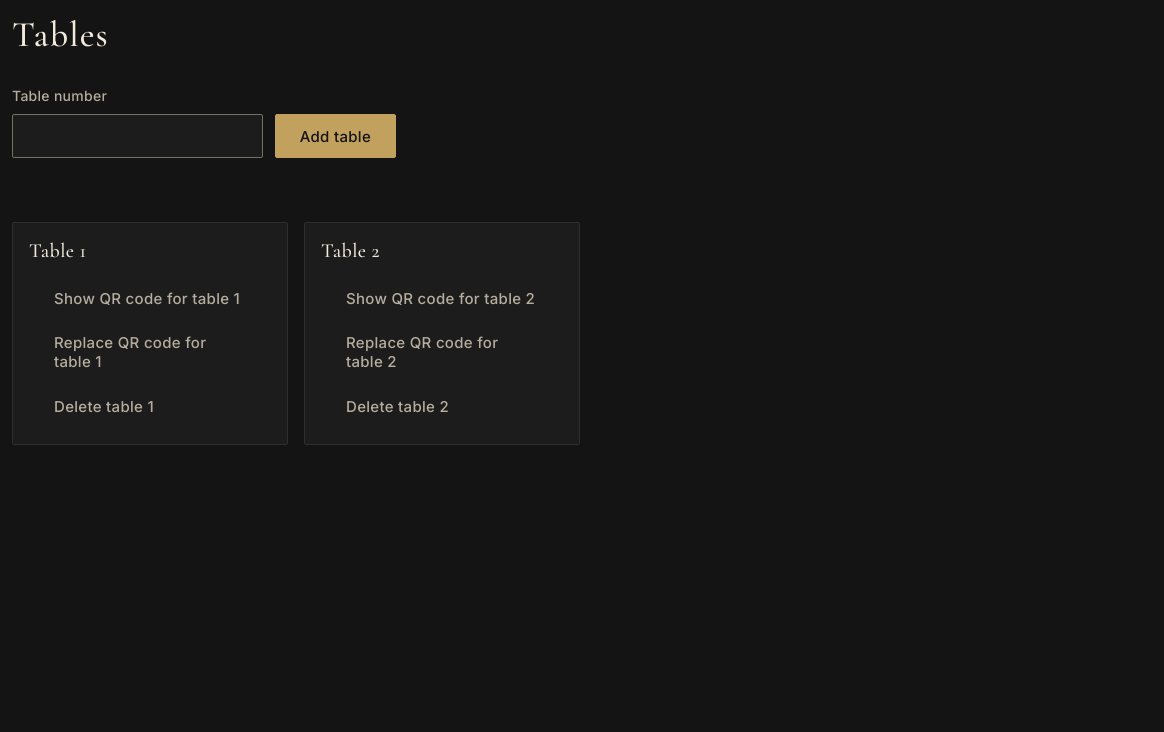
Test: TableManager page › 5. 409 conflict and 400 bad request show specific error messages
Check: the heading "Table 1" is shown, box [29,239,86,263]
Type "1" into the field labelled "Table number" at (137,136), box [12,114,263,158]
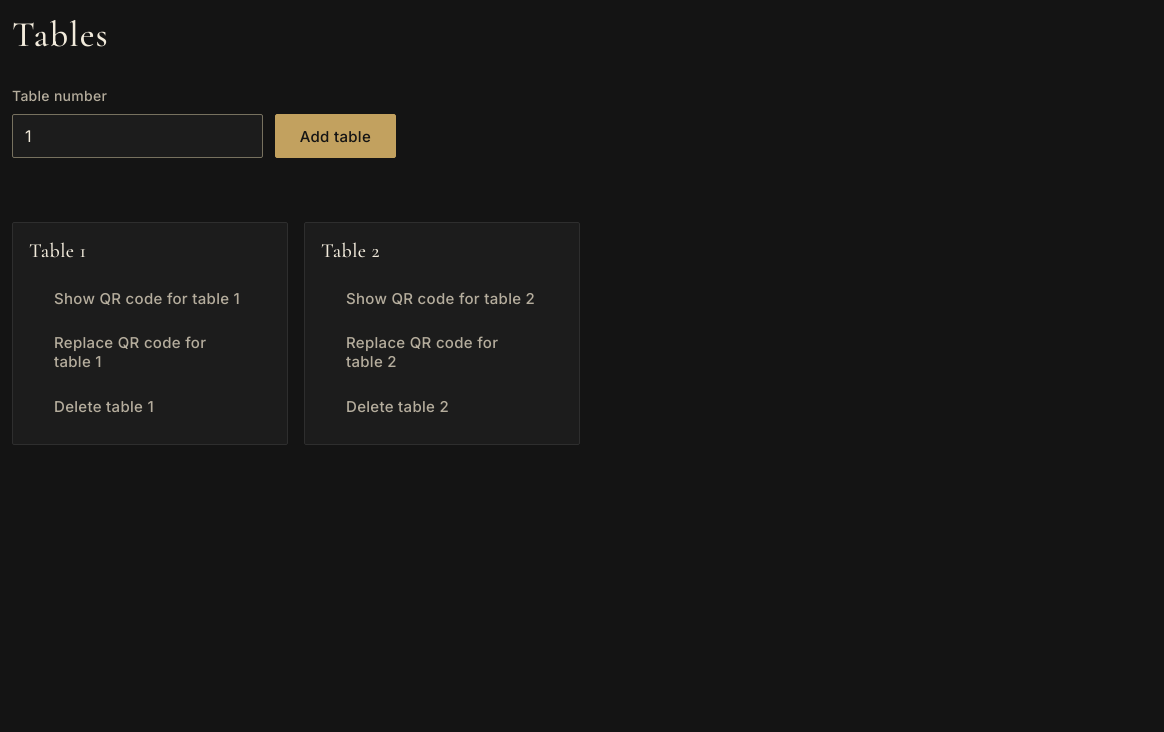
Click the button "Add table" at (335,136), box [275,114,396,158]
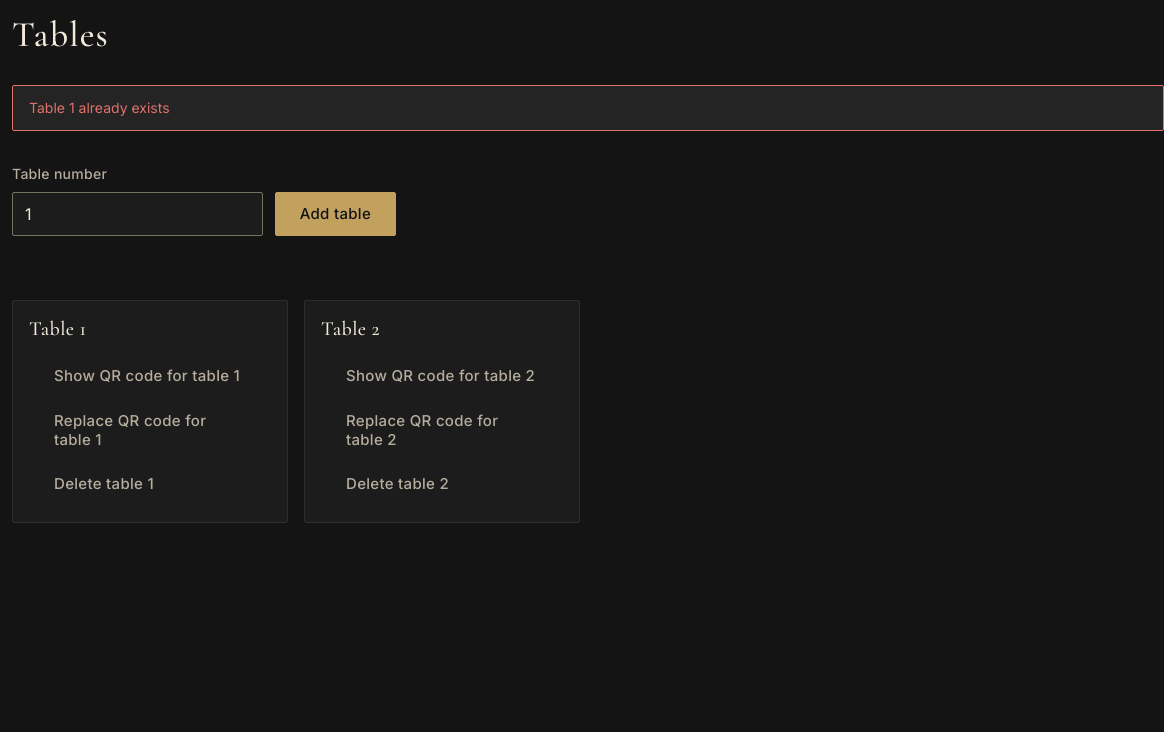
Replace the text in the field labelled "Table number" with "99" at (137,214), box [12,192,263,236]
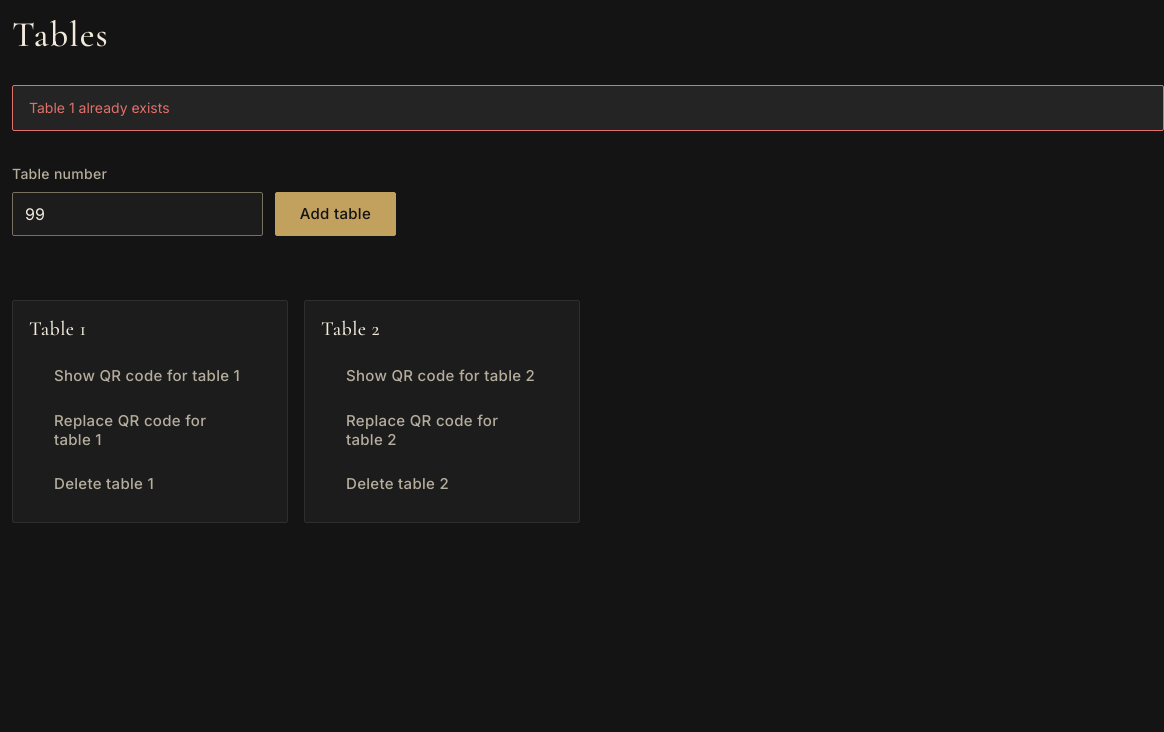
Click the button "Add table" at (335,214), box [275,192,396,236]
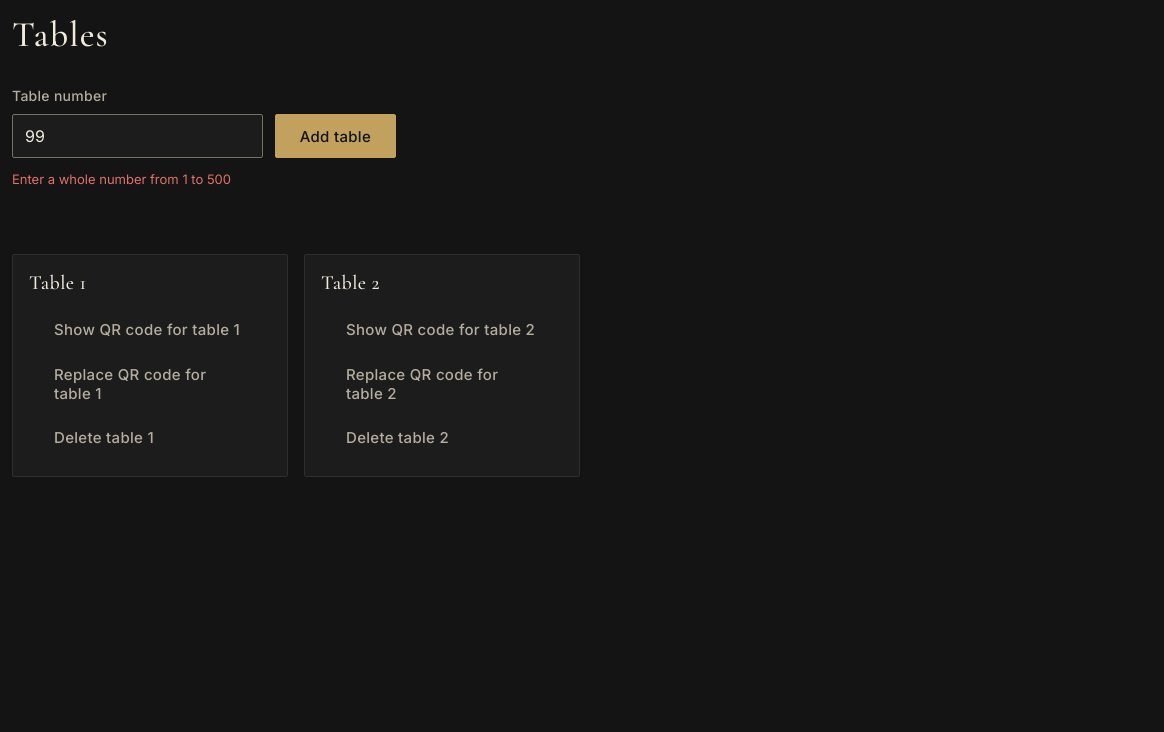
Check: the text "Enter a whole number from 1 to 500" is shown, box [12,171,231,187]
